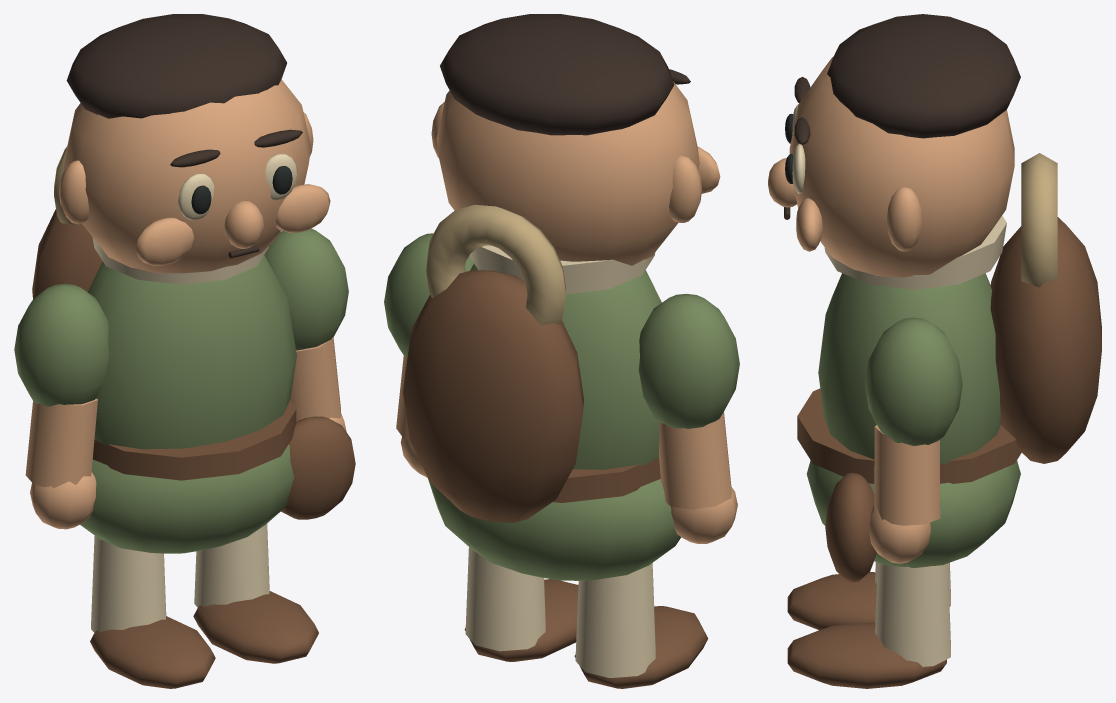
The model's file is character_eli.glb.
3 views of the same model, side by side, from view 1: azimuth 30°, elevation 25°; view 2: azimuth 150°, elevation 25°; view 3: azimuth 270°, elevation 25° (orthographic). The views are drawn at different scales.
Parts seen in each view (by area): view 1: batch_eli_0, batch_eli_2, batch_eli_3, batch_eli_5, batch_arm_left_0, batch_arm_left_1, batch_arm_right_0, batch_leg_right_1, batch_leg_left_1, batch_leg_left_0, batch_leg_right_0, batch_eli_1 (+2 smaller); view 2: batch_eli_5, batch_eli_2, batch_eli_0, batch_eli_3, batch_arm_left_0, batch_eli_6, batch_leg_left_0, batch_arm_left_1, batch_leg_right_0, batch_leg_left_1, batch_arm_right_0, batch_eli_1 (+2 smaller); view 3: batch_eli_2, batch_eli_5, batch_eli_0, batch_eli_3, batch_arm_right_0, batch_arm_right_1, batch_leg_right_0, batch_leg_right_1, batch_eli_6, batch_leg_left_1, batch_eli_1.
Boxes of the visible parts, box(x1,y1,x2,y2) form: batch_eli_0: box(80, 255, 296, 553); batch_eli_2: box(59, 79, 330, 273); batch_eli_3: box(66, 14, 302, 258); batch_eli_5: box(32, 209, 355, 519); batch_arm_left_0: box(14, 283, 109, 406); batch_arm_left_1: box(25, 398, 97, 529); batch_arm_right_0: box(264, 228, 348, 350); batch_leg_right_1: box(193, 591, 318, 663); batch_leg_left_1: box(90, 616, 215, 688); batch_leg_left_0: box(91, 536, 166, 632); batch_leg_right_0: box(194, 523, 269, 607); batch_eli_1: box(92, 154, 297, 284); batch_eli_5: box(403, 270, 660, 522); batch_eli_2: box(431, 81, 720, 265); batch_eli_0: box(427, 263, 681, 580); batch_eli_3: box(440, 14, 690, 135); batch_arm_left_0: box(638, 293, 739, 428); batch_eli_6: box(426, 204, 565, 325); batch_leg_left_0: box(575, 563, 655, 677); batch_arm_left_1: box(659, 412, 737, 543); batch_leg_right_0: box(465, 547, 545, 651); batch_leg_left_1: box(574, 606, 708, 688); batch_arm_right_0: box(384, 233, 473, 358); batch_eli_1: box(469, 245, 655, 294); batch_eli_2: box(768, 56, 1014, 277); batch_eli_5: box(797, 217, 1101, 582); batch_eli_0: box(806, 273, 1020, 567); batch_eli_3: box(784, 14, 1020, 219); batch_arm_right_0: box(865, 317, 962, 445); batch_arm_right_1: box(869, 425, 940, 563); batch_leg_right_0: box(875, 563, 950, 666); batch_leg_right_1: box(787, 622, 946, 688); batch_eli_6: box(1021, 153, 1057, 287); batch_leg_left_1: box(787, 572, 876, 630); batch_eli_1: box(792, 104, 1006, 289).
Bounding box in the file's own units: 0.81 × 1.46 × 0.7164.
